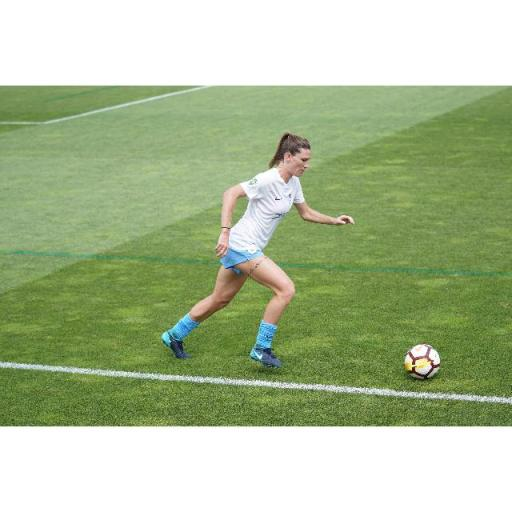Running: (158, 123, 360, 375)
